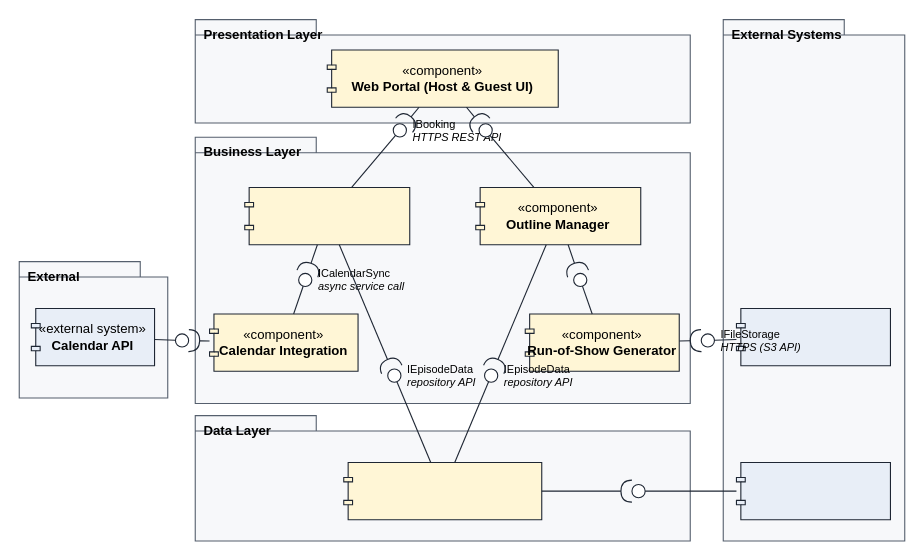
Image size: 924x560. Some labels were removed from this diagram. Each missing label, with the centre of its shape:
ICalendarAPI HTTPS + OAuth 2.0: point (181, 340)
IOutline HTTPS REST API: point (485, 130)
IRunOfShow generate-PDF request: point (580, 279)
ISQL SQL queries: point (638, 490)
«component» Booking Manager: point (327, 215)
«component» Episode Repository: point (442, 490)
«database» Episode Database: point (812, 490)
«external system» Object Storage: point (812, 336)
